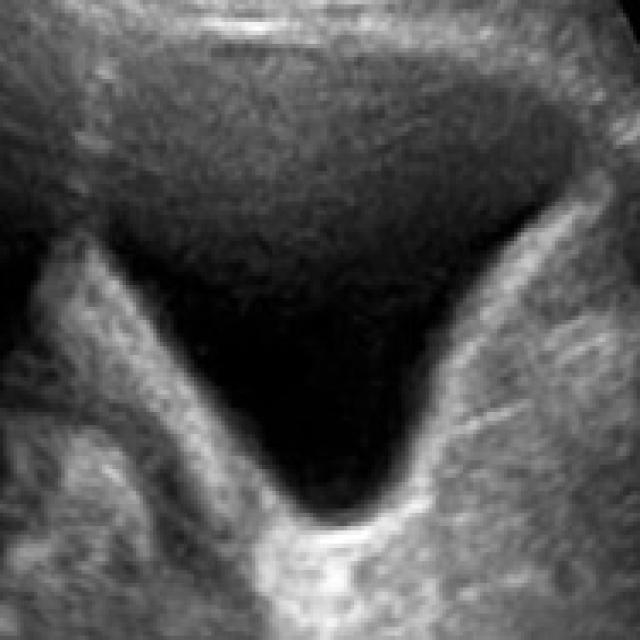bladder: (49, 16, 606, 586)
